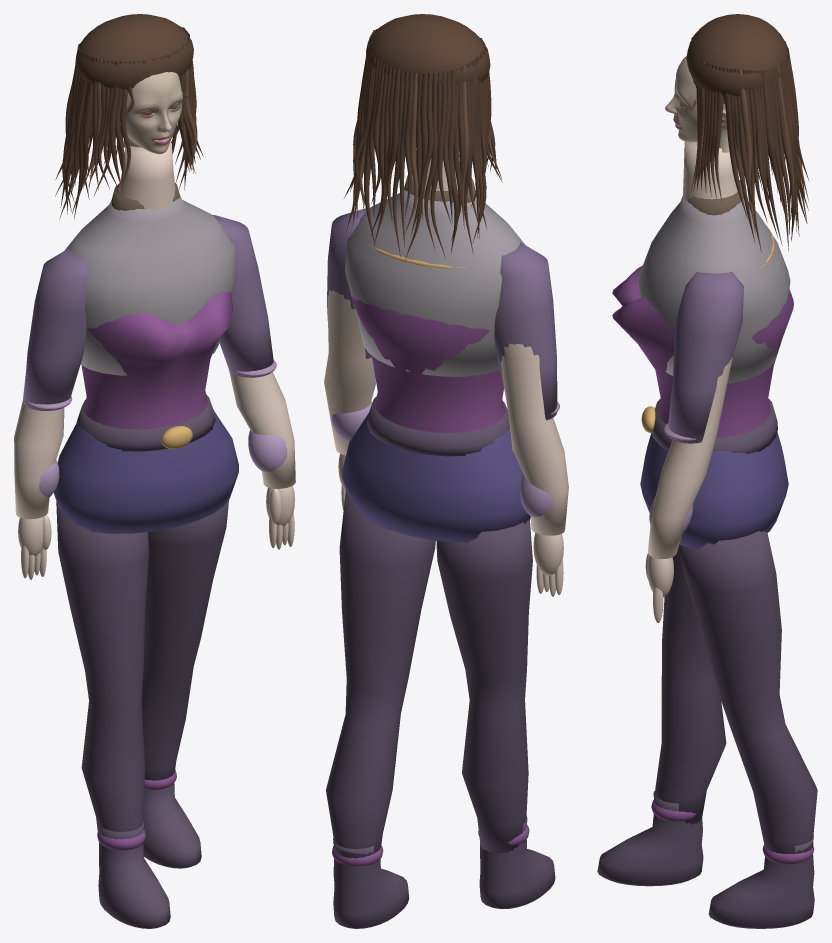
Rendered from katie_walk_5.glb.
3 views of the same model, side by side, from view 1: azimuth 30°, elevation 25°; view 2: azimuth 150°, elevation 25°; view 3: azimuth 270°, elevation 25° (orthographic). The views are drawn at different scales.
Parts seen in each view (by area): view 1: Continuous trouser leg, Katie linen underlayer, Fitted hip panel, Continuous trouser leg.001, Violet sweetheart bodice, Katie hair locks, Katie smooth sleeve, Katie hair crown, Katie smooth sleeve.001, Fitted boot, Continuous arm, Continuous arm.001 (+9 smaller); view 2: Continuous trouser leg.001, Continuous trouser leg, Katie linen underlayer, Katie hair locks, Fitted hip panel, Violet sweetheart bodice, Continuous arm, Katie smooth sleeve, Katie hair crown, Continuous arm.001, Fitted boot.001, Fitted boot (+6 smaller); view 3: Continuous trouser leg.001, Katie linen underlayer, Continuous trouser leg, Katie hair locks, Fitted hip panel, Katie smooth sleeve.001, Violet sweetheart bodice, Katie hair crown, Fitted boot, Fitted boot.001, Continuous arm.001, Imported Katie katie (+6 smaller).
Boxes of the visible parts, x1=… form: Continuous trouser leg: x1=56, y1=501, x2=149, y2=842; Katie linen underlayer: x1=65, y1=196, x2=236, y2=375; Fitted hip panel: x1=53, y1=409, x2=238, y2=533; Continuous trouser leg.001: x1=141, y1=500, x2=228, y2=780; Violet sweetheart bodice: x1=81, y1=291, x2=232, y2=429; Katie hair locks: x1=55, y1=29, x2=203, y2=219; Katie smooth sleeve: x1=23, y1=248, x2=88, y2=410; Katie hair crown: x1=75, y1=14, x2=193, y2=91; Katie smooth sleeve.001: x1=213, y1=215, x2=273, y2=377; Fitted boot: x1=98, y1=820, x2=170, y2=928; Continuous arm: x1=14, y1=373, x2=64, y2=519; Continuous arm.001: x1=228, y1=369, x2=295, y2=488; Continuous trouser leg.001: x1=326, y1=489, x2=435, y2=865; Continuous trouser leg: x1=436, y1=520, x2=532, y2=853; Katie linen underlayer: x1=345, y1=187, x2=524, y2=376; Katie hair locks: x1=344, y1=29, x2=502, y2=261; Fitted hip panel: x1=342, y1=413, x2=530, y2=542; Violet sweetheart bodice: x1=352, y1=296, x2=504, y2=432; Continuous arm: x1=500, y1=343, x2=568, y2=535; Katie smooth sleeve: x1=494, y1=242, x2=557, y2=420; Katie hair crown: x1=366, y1=14, x2=490, y2=86; Continuous arm.001: x1=324, y1=290, x2=375, y2=455; Fitted boot.001: x1=333, y1=839, x2=409, y2=928; Fitted boot: x1=479, y1=816, x2=555, y2=909; Continuous trouser leg.001: x1=678, y1=531, x2=817, y2=853; Katie linen underlayer: x1=638, y1=196, x2=790, y2=383; Continuous trouser leg: x1=655, y1=547, x2=726, y2=824; Katie hair locks: x1=689, y1=31, x2=809, y2=252; Fitted hip panel: x1=640, y1=432, x2=788, y2=549; Katie smooth sleeve.001: x1=668, y1=271, x2=743, y2=443; Violet sweetheart bodice: x1=612, y1=265, x2=793, y2=437; Katie hair crown: x1=686, y1=14, x2=788, y2=103; Fitted boot: x1=597, y1=790, x2=703, y2=886; Fitted boot.001: x1=708, y1=836, x2=814, y2=928; Continuous arm.001: x1=647, y1=357, x2=732, y2=559; Imported Katie katie: x1=665, y1=56, x2=729, y2=152.
Size of the model in its own units: 0.6866 by 2.23 by 0.5105.
15 materials, 2 textured.
